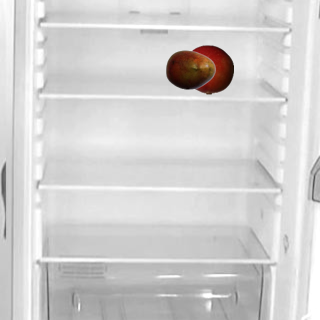Apple Braeburn: (183, 44, 233, 94)
Mango Red: (165, 44, 215, 94)
